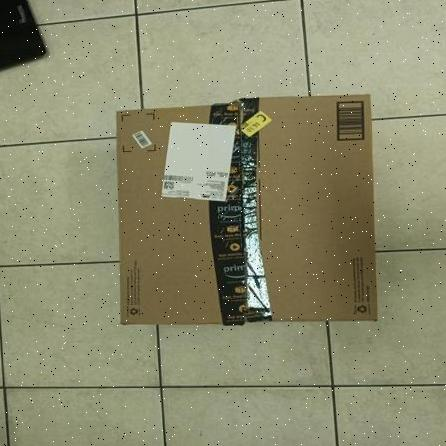Amazon: (112, 101, 386, 330)
